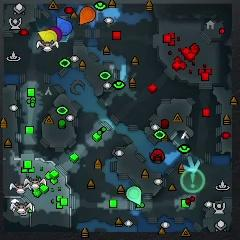Other: (181, 169, 206, 194)
p1: (56, 16, 72, 36)
p2: (126, 186, 142, 205)
p3: (47, 26, 62, 42)
p4: (38, 29, 57, 44)
p5: (80, 6, 96, 24)
x3: (184, 156, 200, 172)
